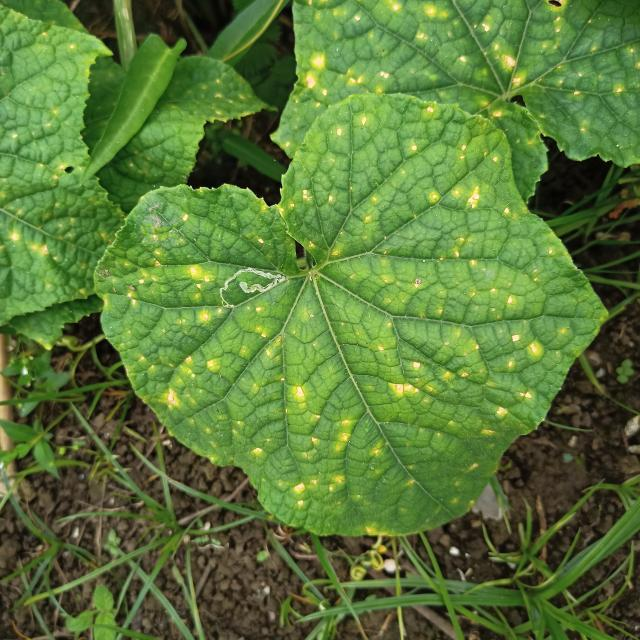disease_cucumber: (109, 107, 593, 535), (296, 4, 628, 136)
